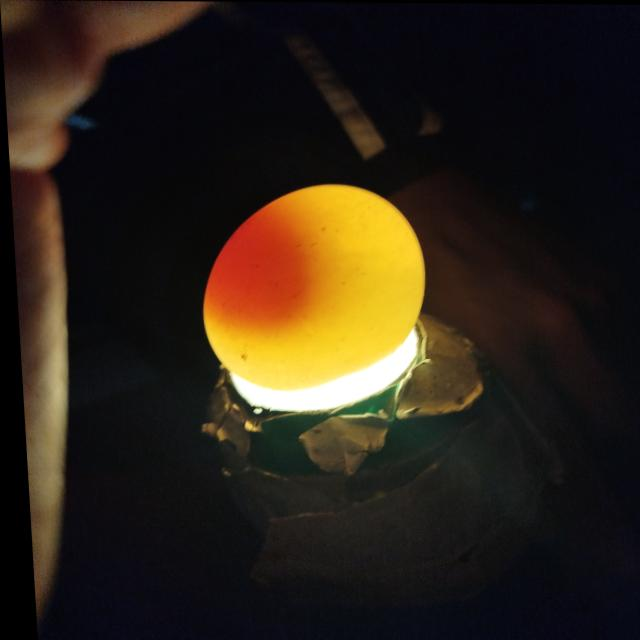Gema Quebrada: (200, 205, 306, 323)
